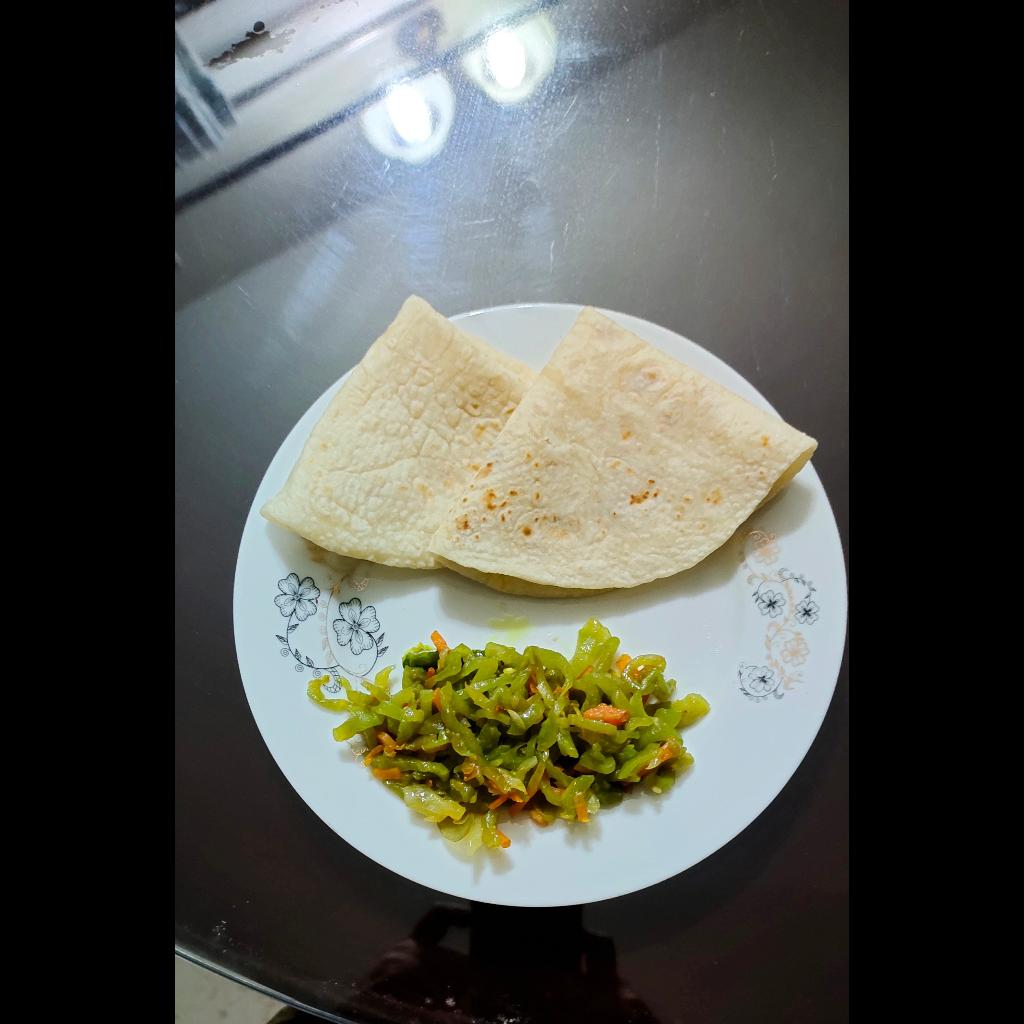chichinga-vaji: (305, 613, 706, 853)
ruti: (262, 286, 820, 598)
